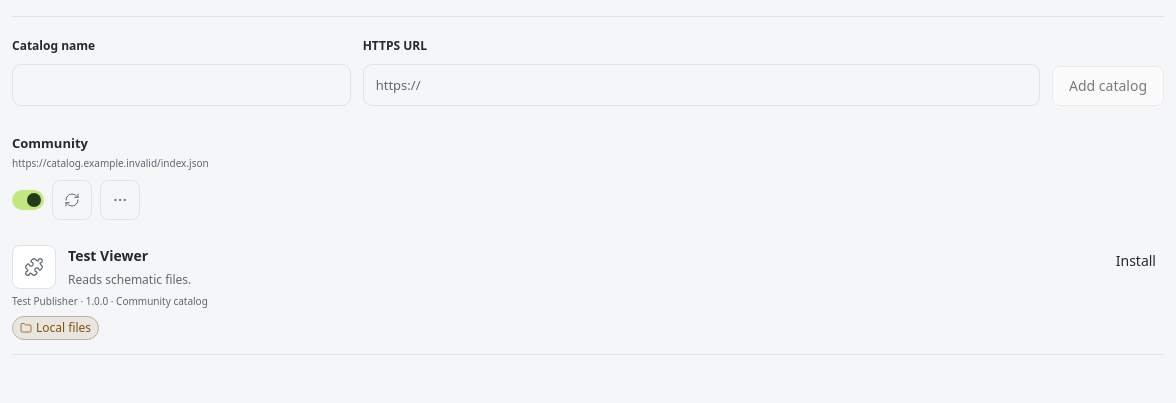
keeps cached entries visible when an explicit refresh fails
The width and height of the screenshot is (1176, 403).
Click the button named "Refresh Community" at (72, 200), box [52,180,92,220]
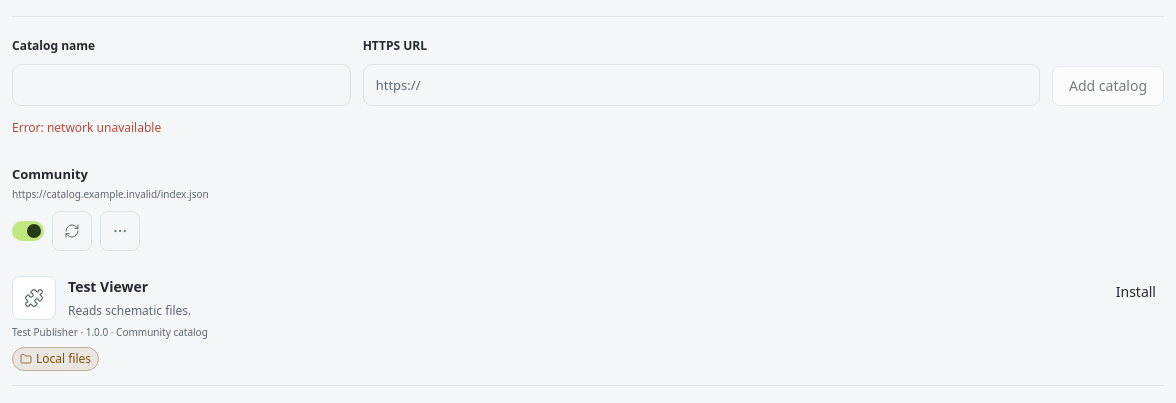
Check: the text "Test Viewer" is shown, box [68,277,148,296]
Check: the message "Error: network unavailable" is shown, box [12,119,161,136]
